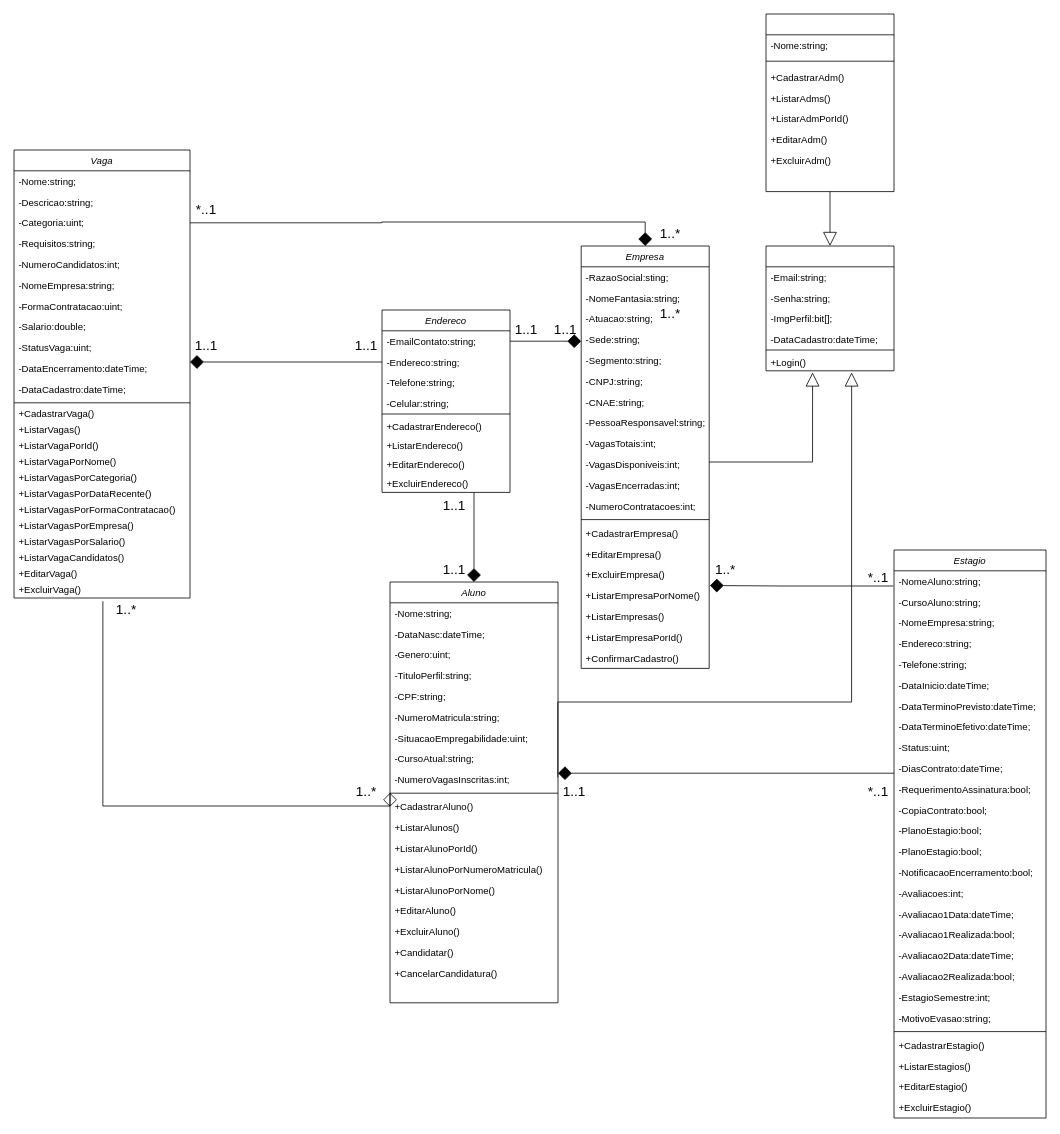
This 1060x1134 diagram has some shape labels left out. Each missing label, with the box of its shape:
Administrador: (765, 13, 894, 192)
Usuario: (765, 245, 894, 371)
